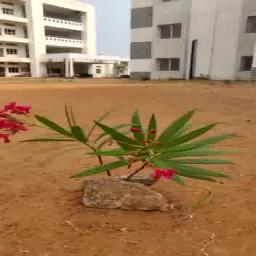OLEANDER: (5, 104, 243, 181)
